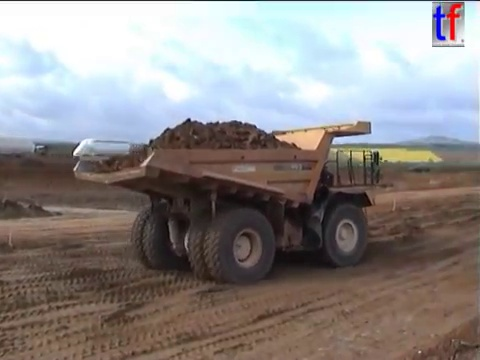truck: (69, 118, 386, 287)
